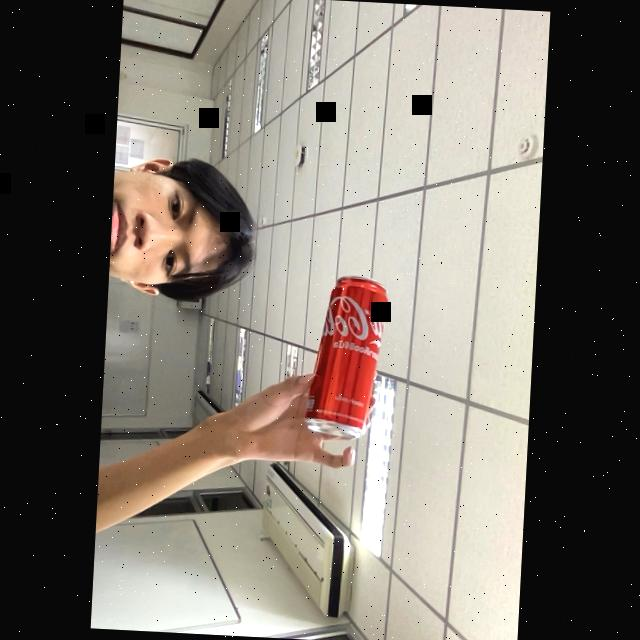can: (293, 272, 402, 448)
